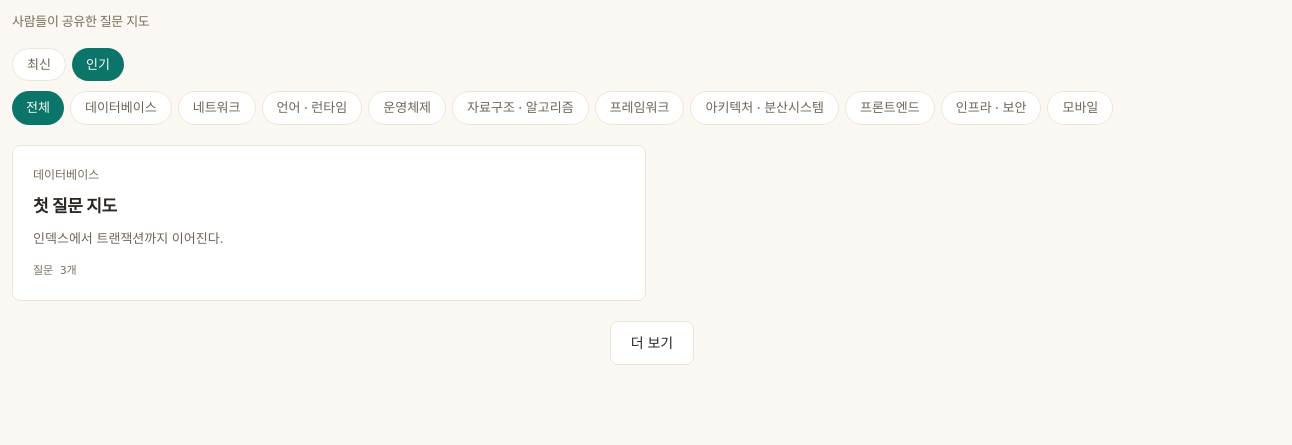
Test case: Board · 다음 페이지 › 더 보기 실패 뒤에도 이미 읽던 질문 지도를 남긴다
This screenshot has width=1292, height=445.
Click the button "더 보기" at point(652, 343), box [610, 321, 694, 365]
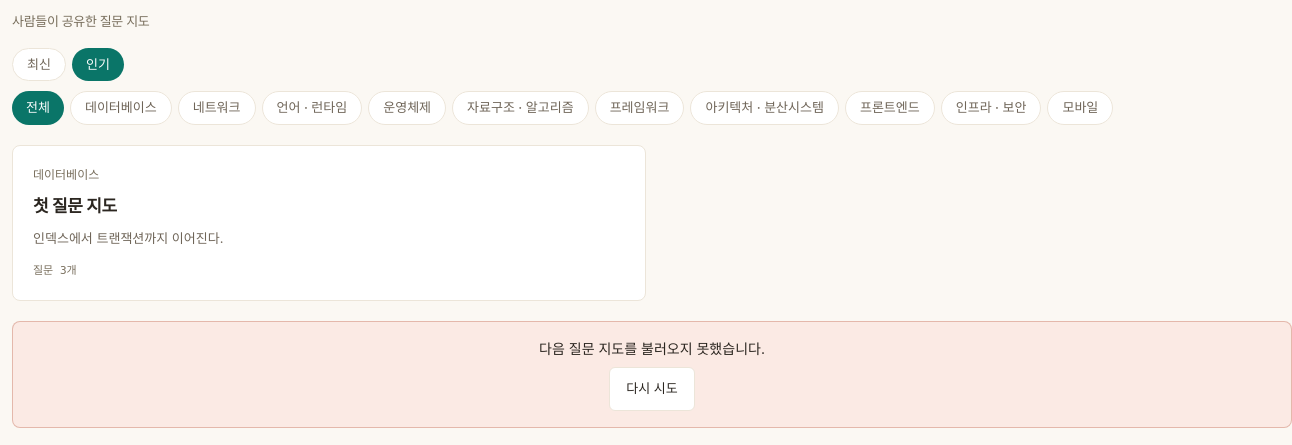
expect the message "다음 질문 지도를 불러오지 못했습니다. 다시 시도" is shown: met, box [12, 321, 1291, 428]
expect the button "다시 시도" is shown: met, box [609, 367, 695, 411]
expect the button "더 보기" is gone: met
